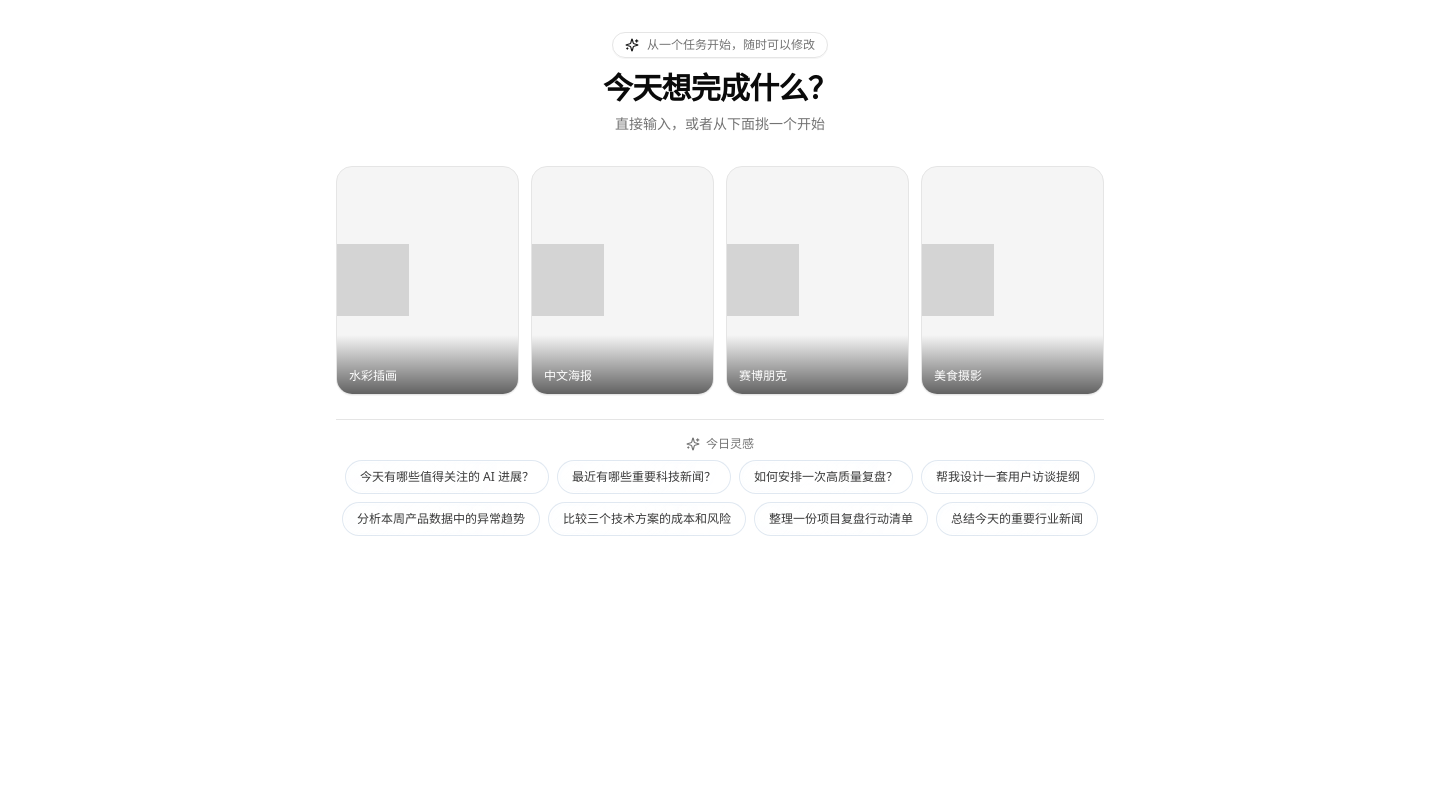
Test: HomePage › 点击生图卡片打开大图和提示词，点「做同款」才填入提示词并关闭
Click the button with aria-label "查看大图：水彩插画".
click(428, 280)  # box x1=336 y1=166 x2=519 y2=395
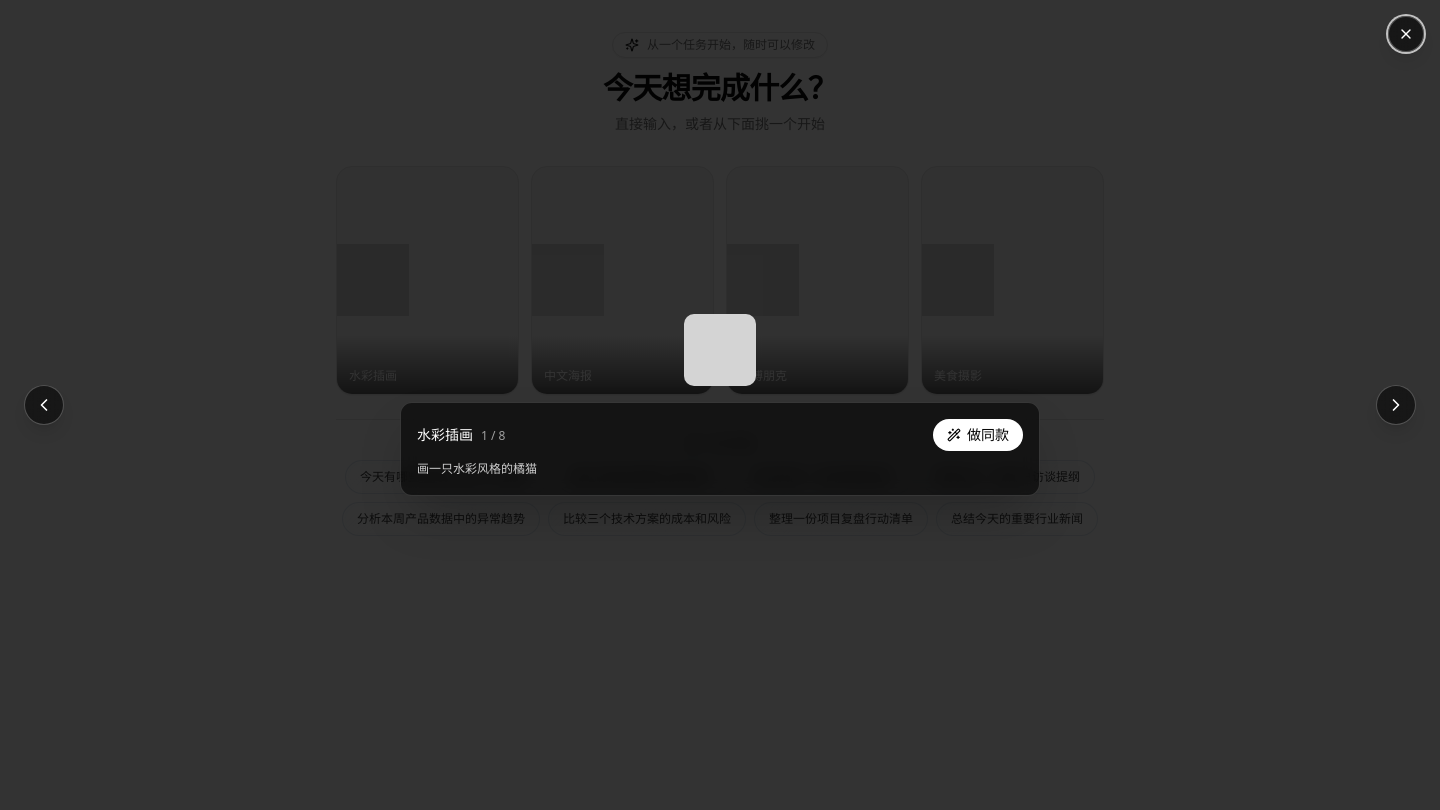
Now the text "画一只水彩风格的橘猫" is shown, box x1=417 y1=460 x2=537 y2=477
Click the button "做同款".
click(978, 435)  # box x1=933 y1=419 x2=1023 y2=451
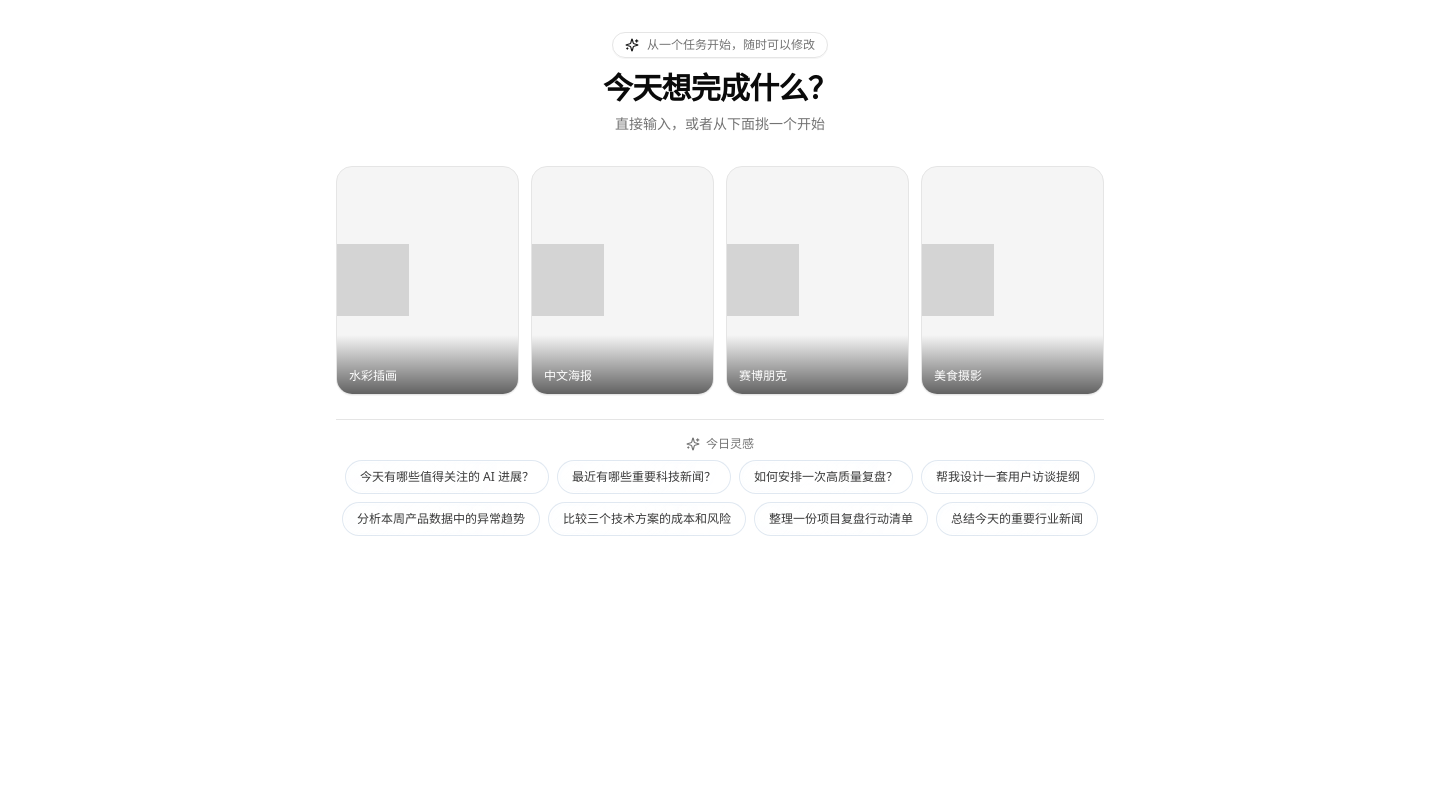
Now the dialog is gone
